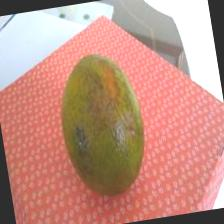Orange Rotten: (46, 38, 166, 205)
